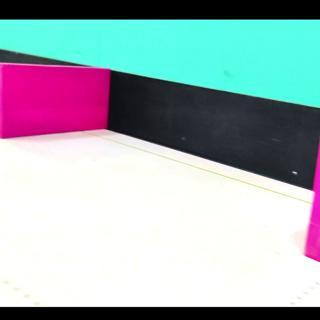xparking: (2, 69, 106, 141), (315, 186, 318, 261)
